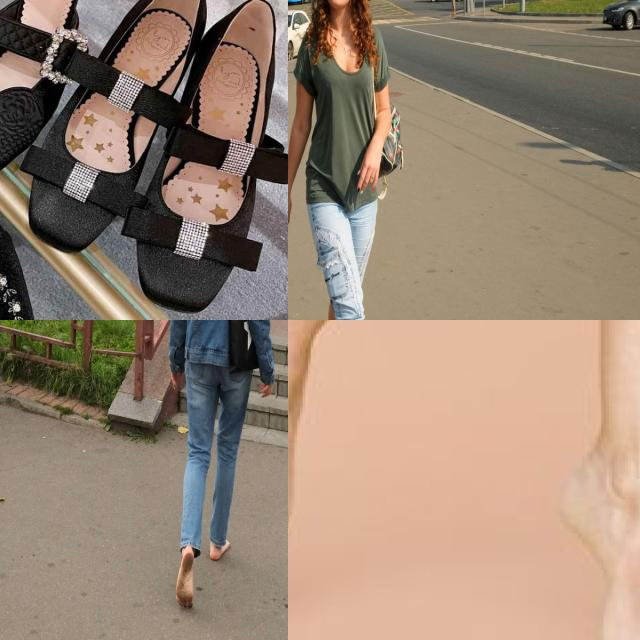Barefoots: (554, 469, 640, 640), (176, 548, 194, 608), (210, 540, 230, 560)
Sandals: (21, 0, 288, 320), (0, 0, 108, 220)
